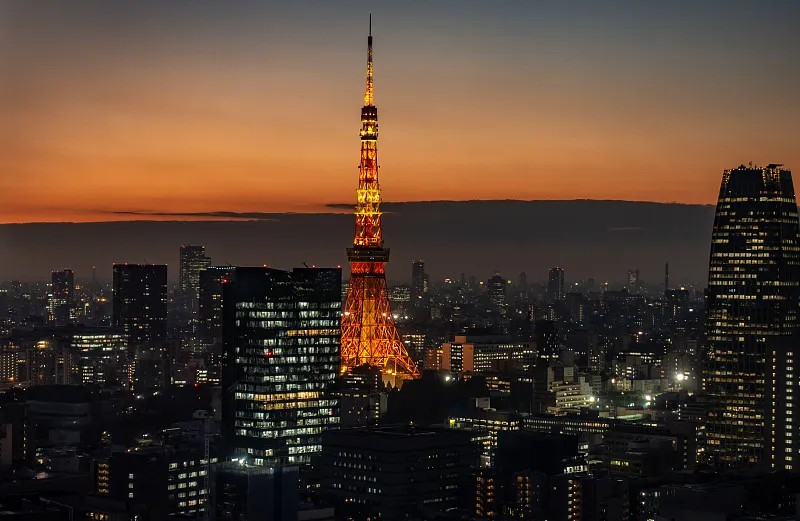Tokyo: (342, 11, 420, 380)
